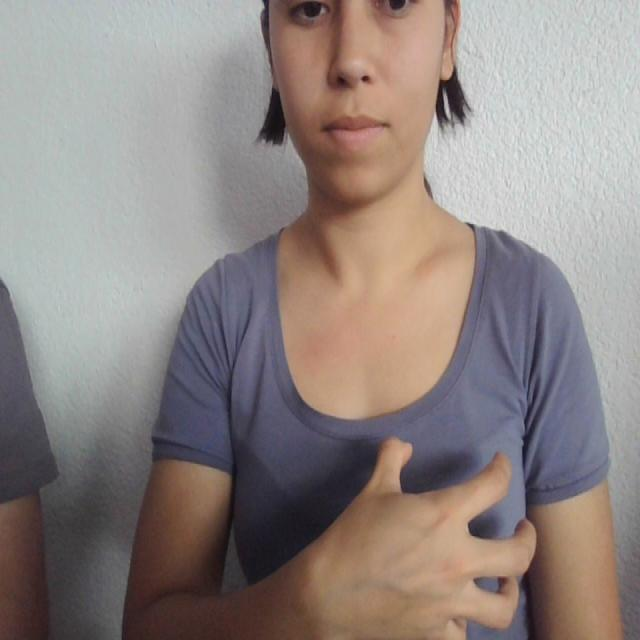Anne: (218, 389, 526, 640)
